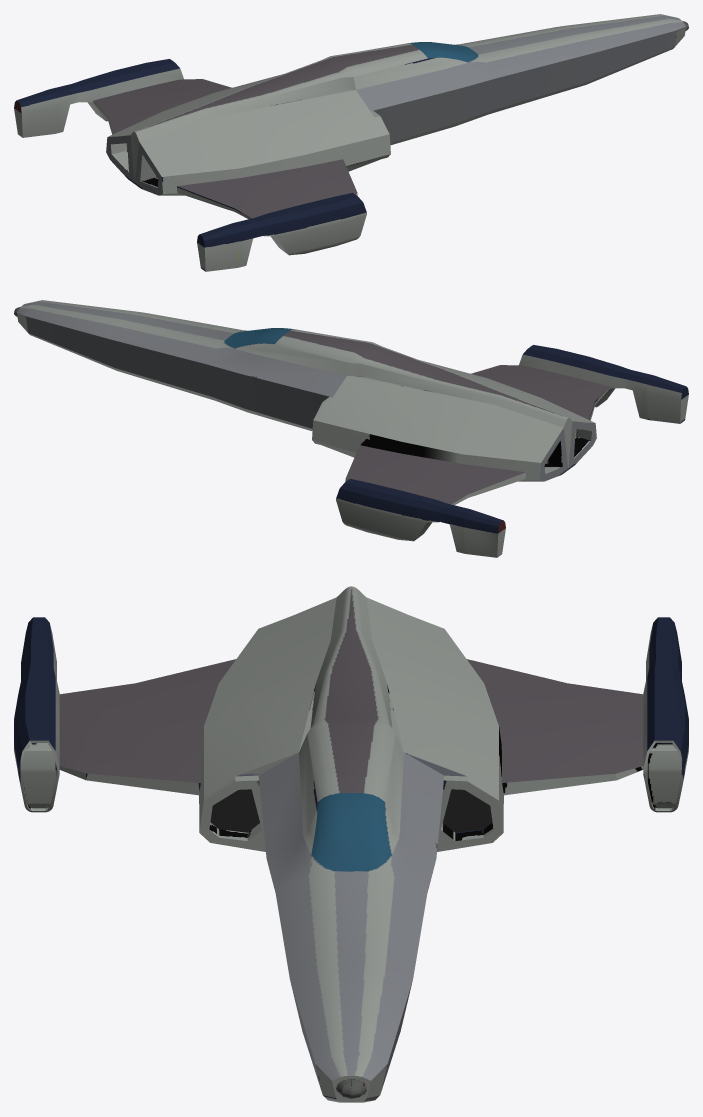
The model's file is space_ship4.fbx.
The picture shows the model from 3 angles, top to bottom: view 1: azimuth 30°, elevation 25°; view 2: azimuth 150°, elevation 25°; view 3: azimuth 270°, elevation 25°; orthographic projection. The views are drawn at different scales.
Visible parts, largest first — view 1: Cube.004; view 2: Cube.004; view 3: Cube.004.
Part boxes in pixels (x1=…): Cube.004: x1=14, y1=14, x2=688, y2=271; Cube.004: x1=14, y1=300, x2=688, y2=557; Cube.004: x1=14, y1=586, x2=688, y2=1102.
Bounding box in the file's own units: 1683 × 252 × 996.
